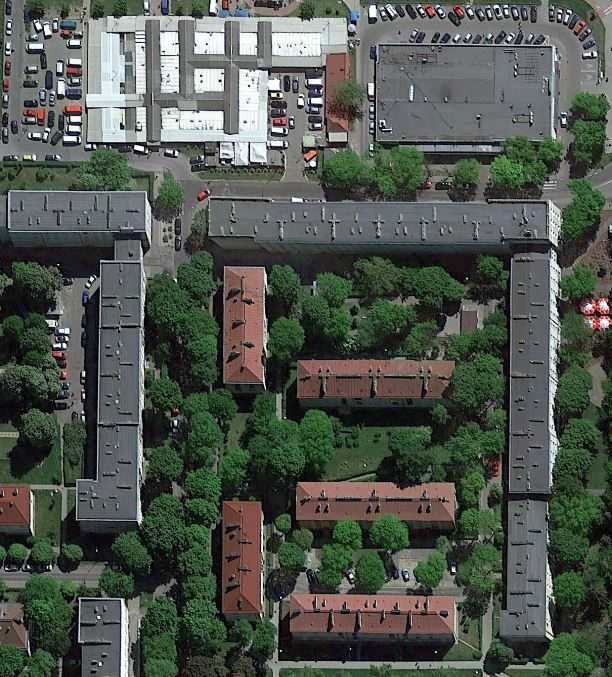block of flats: (497, 243, 563, 648), (72, 238, 153, 535), (204, 195, 573, 256), (1, 181, 154, 253), (292, 477, 463, 535), (294, 355, 463, 411), (286, 591, 461, 645), (218, 265, 272, 399), (216, 497, 269, 627), (74, 594, 132, 677)
shopping_center: (81, 10, 285, 168), (365, 37, 562, 155)
